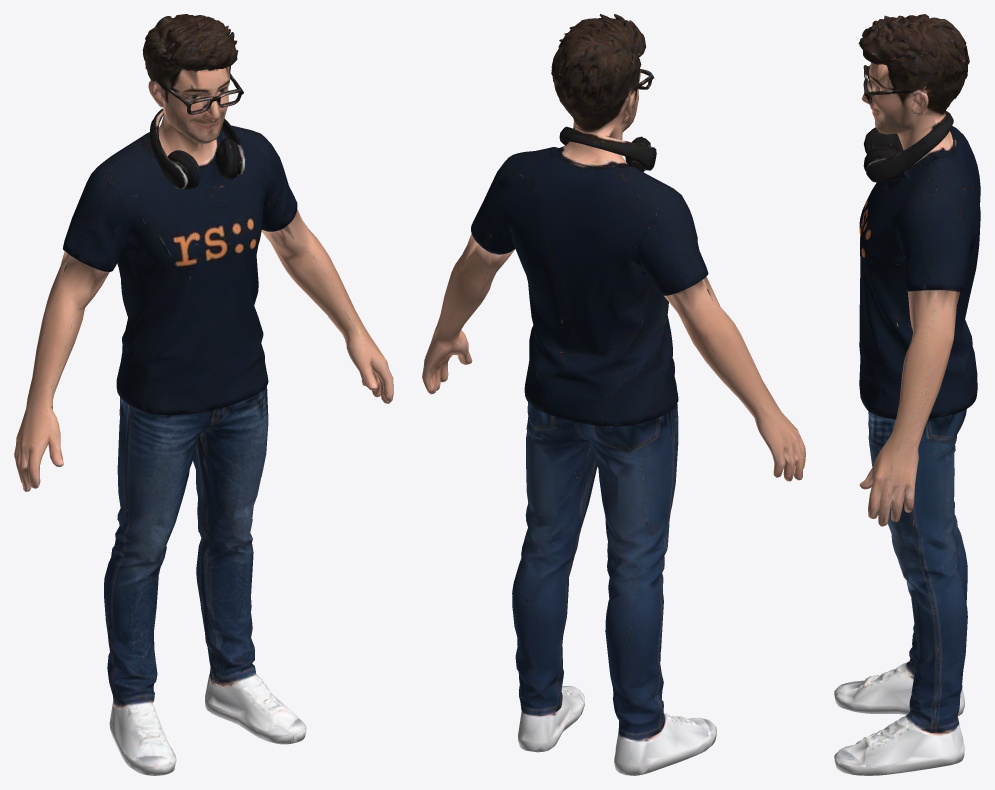
File: male-preview.glb
3 views of the same model, side by side, from view 1: azimuth 30°, elevation 25°; view 2: azimuth 150°, elevation 25°; view 3: azimuth 270°, elevation 25° (orthographic).
Bounding box in the file's own units: 0.9515 × 1.75 × 0.3241.
Materials: 1 (1 with a texture image).
